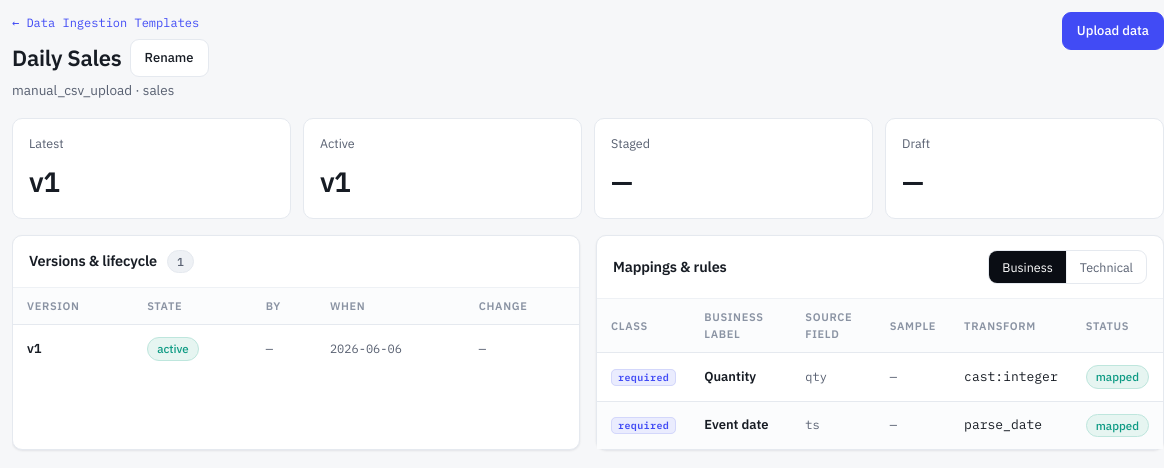
Test: L3: Mapping Templates detail — Mappings & rules + toggle (real shape) › renders both cards, rule rows from mapping_rules, and switches Business/Technical
Expected: the heading "Versions & lifecycle" is shown, [29, 250, 157, 272]
Expected: the heading "Mappings & rules" is shown, [613, 256, 727, 278]
Click the button "Technical": coordinates (1106, 267) [1067, 250, 1146, 283]
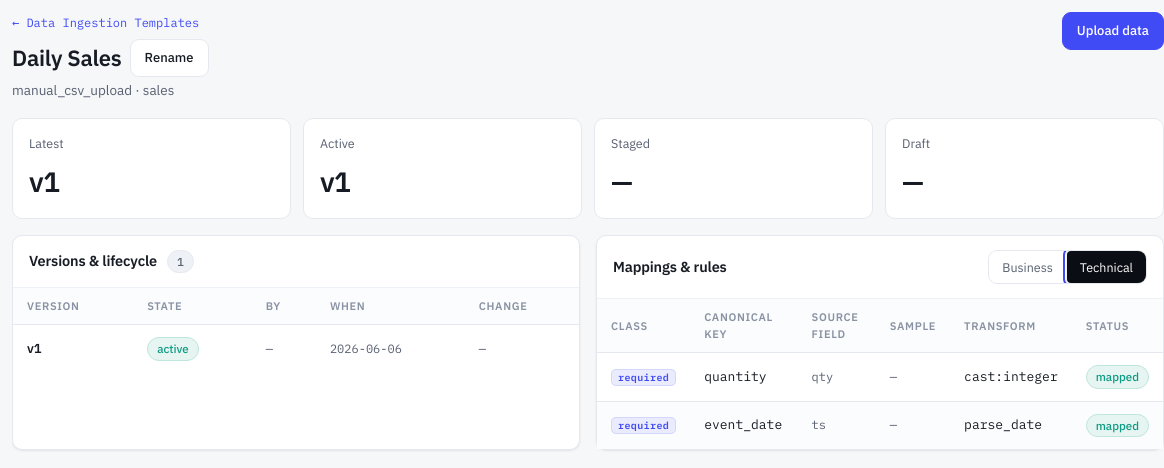
Expected: the column heading "Canonical key" is shown, [690, 299, 798, 353]
Click the button "Business": coordinates (1028, 267) [989, 250, 1067, 283]
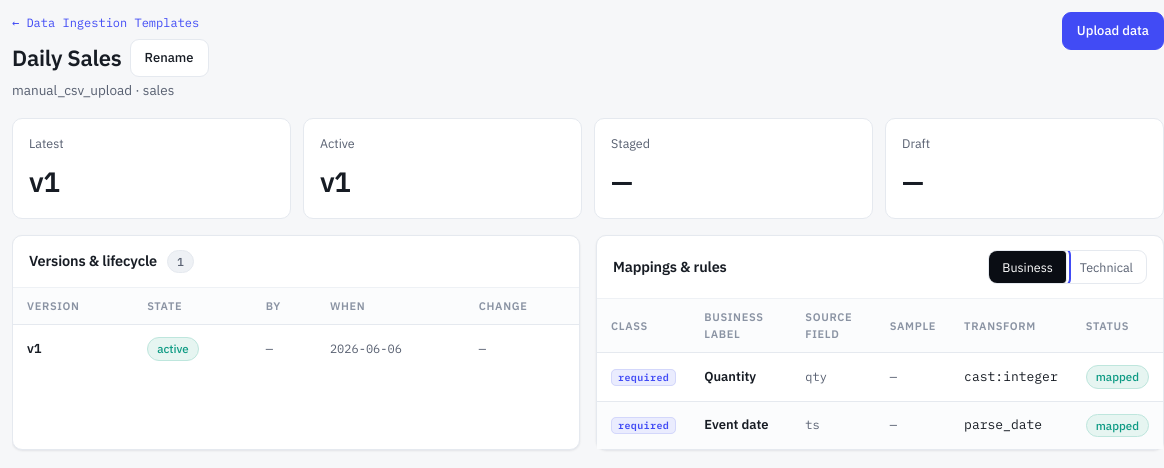
Expected: the column heading "Business label" is shown, [690, 299, 791, 353]
